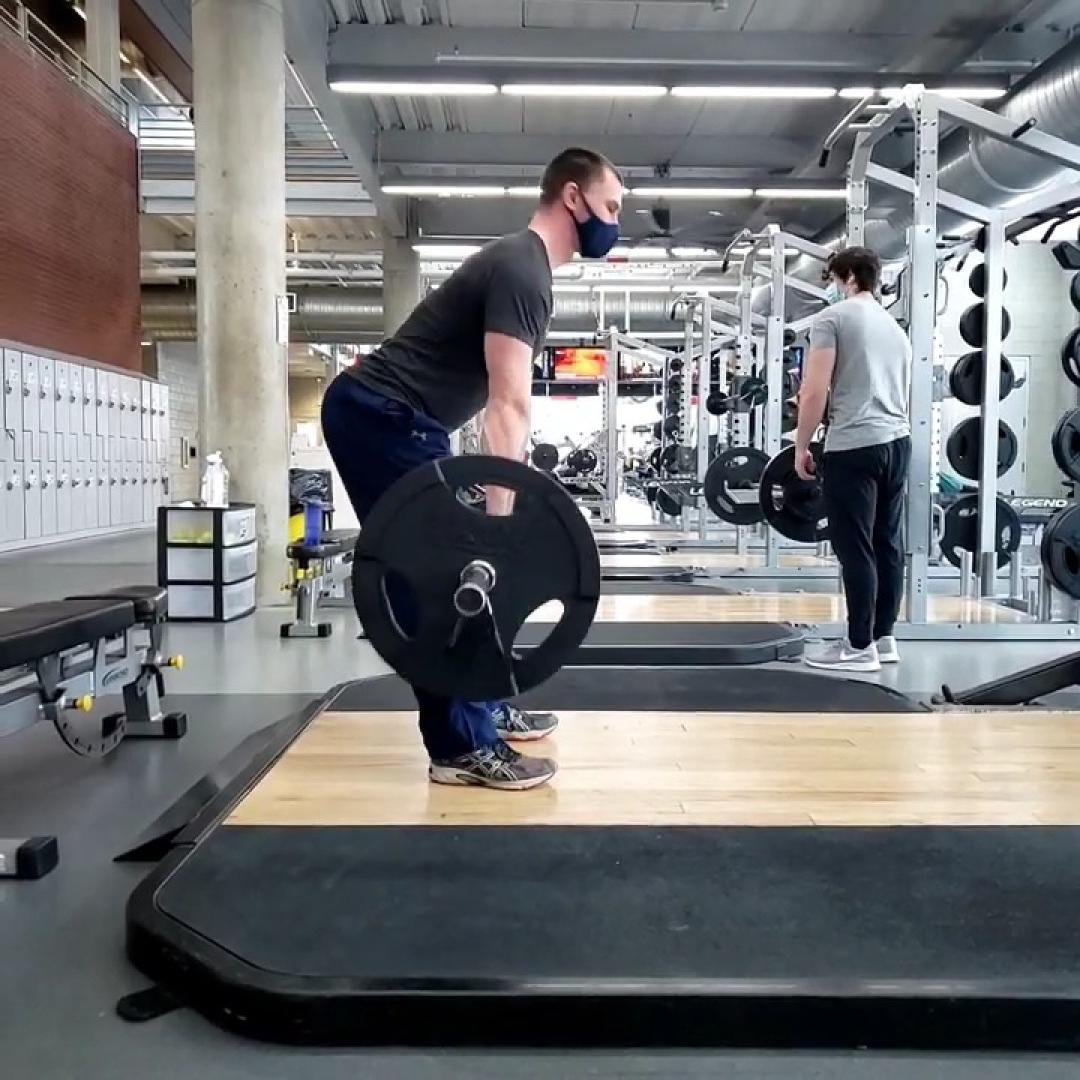Bar: (453, 584, 486, 616)
Barbell: (352, 456, 602, 699)
